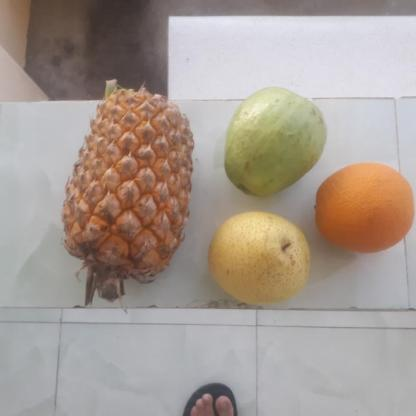guava: (220, 90, 325, 194)
orange: (314, 161, 416, 254)
pear: (204, 211, 313, 306)
pineapple: (62, 88, 190, 282)
